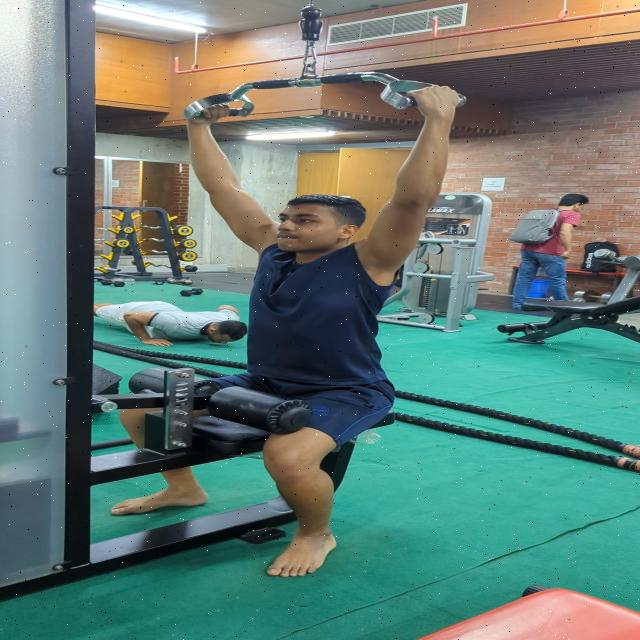Normal_LatPulldown: (107, 78, 477, 580)
